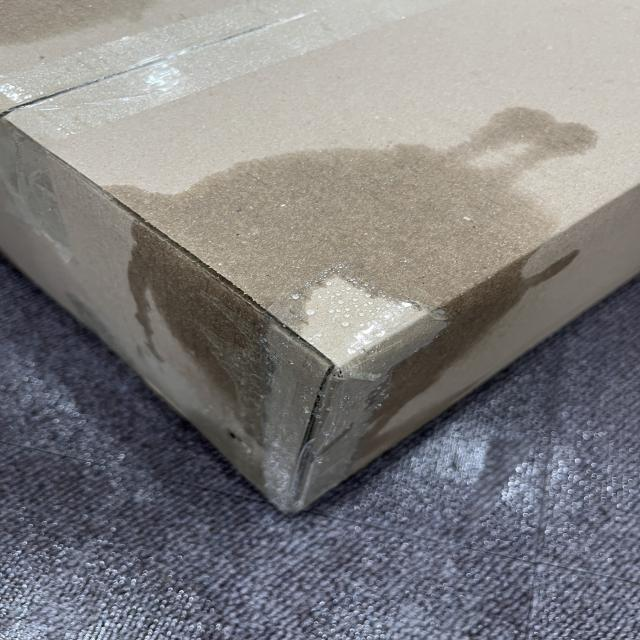wet: (136, 123, 592, 477)
